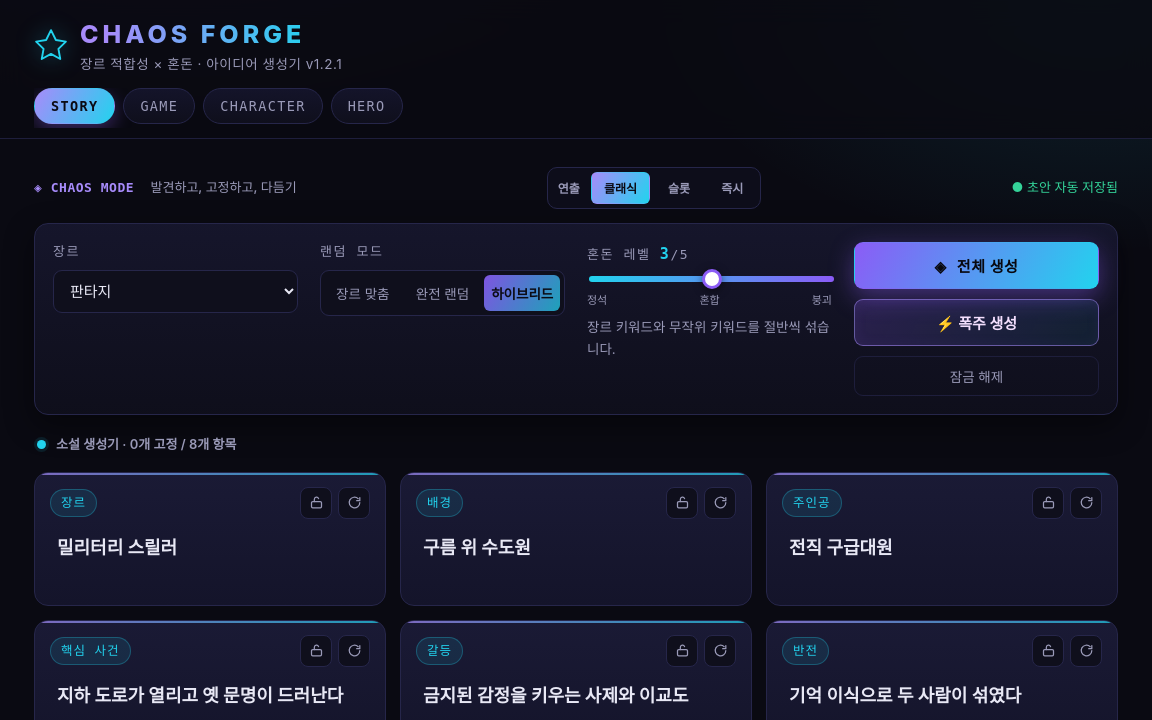
Test: CHAOS FORGE UI › 랜덤 모드에 따라 혼돈 컨트롤이 활성/비활성된다
Step 1. Click the radio button labelled "장르 맞춤" → (363,293), box [325,275,401,311]
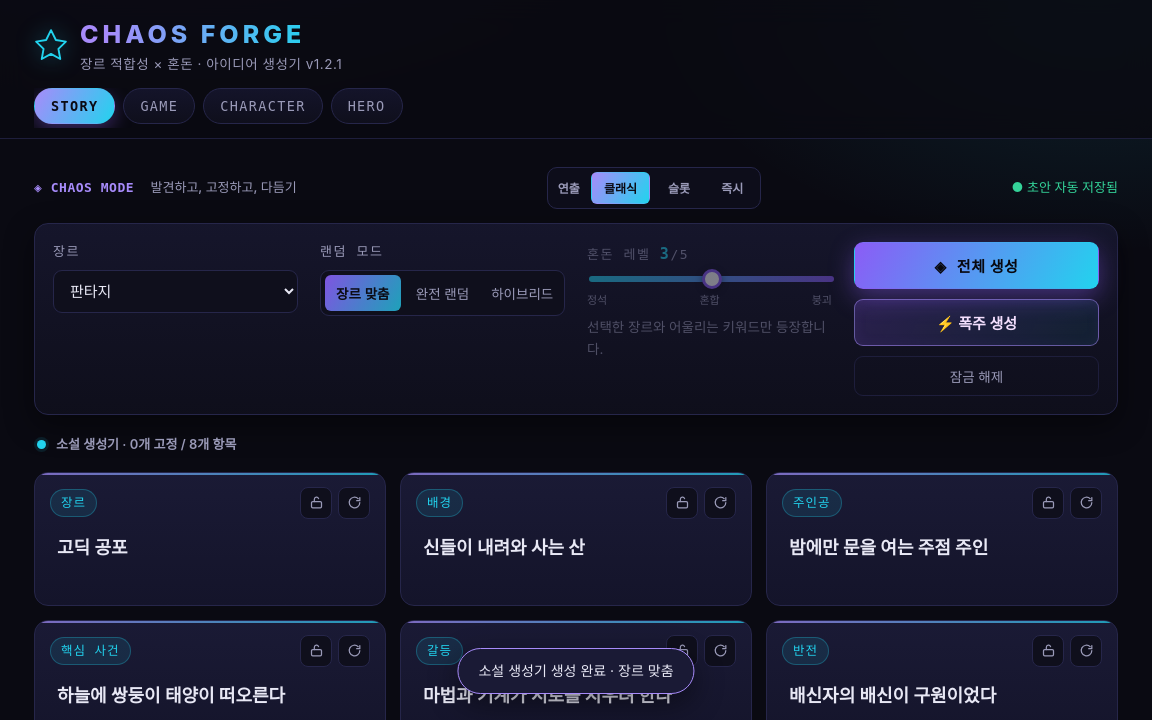
Now the slider with id "chaosRange" is disabled, box [589,276,834,282]
Step 2. Click the radio button labelled "하이브리드" → (522,293), box [484,275,560,311]
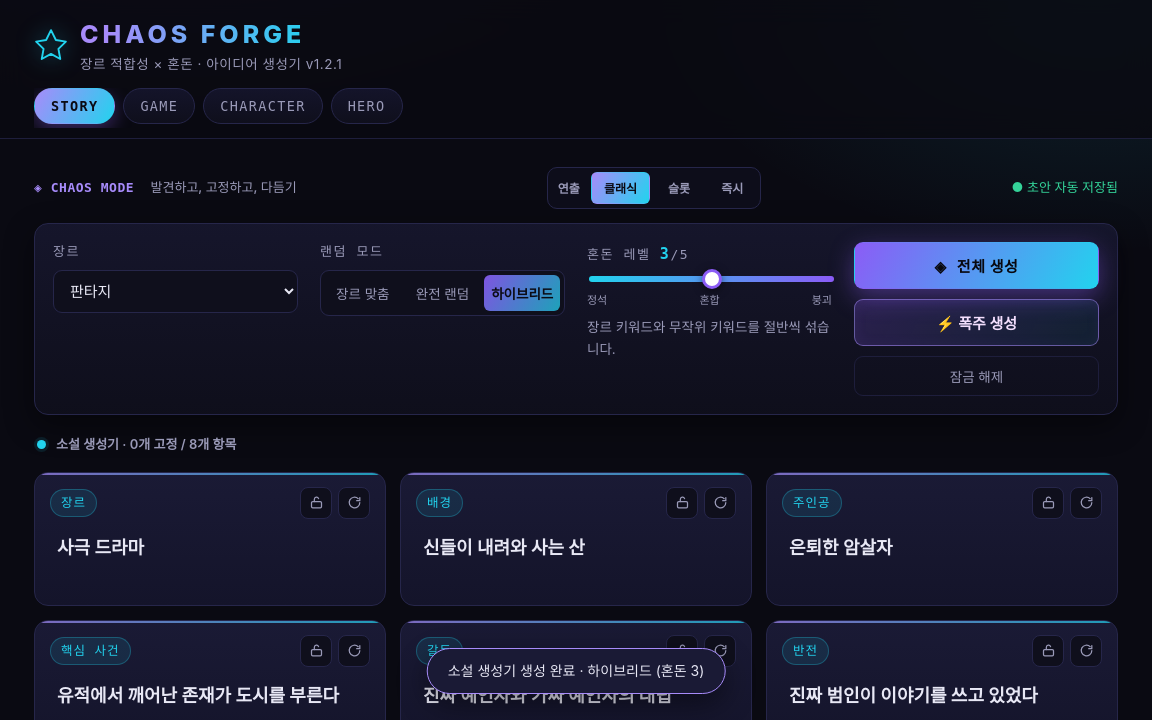
Now the slider with id "chaosRange" is enabled
Step 3. Set the slider with id "chaosRange" to "5" → (826,279), box [589,276,834,282]
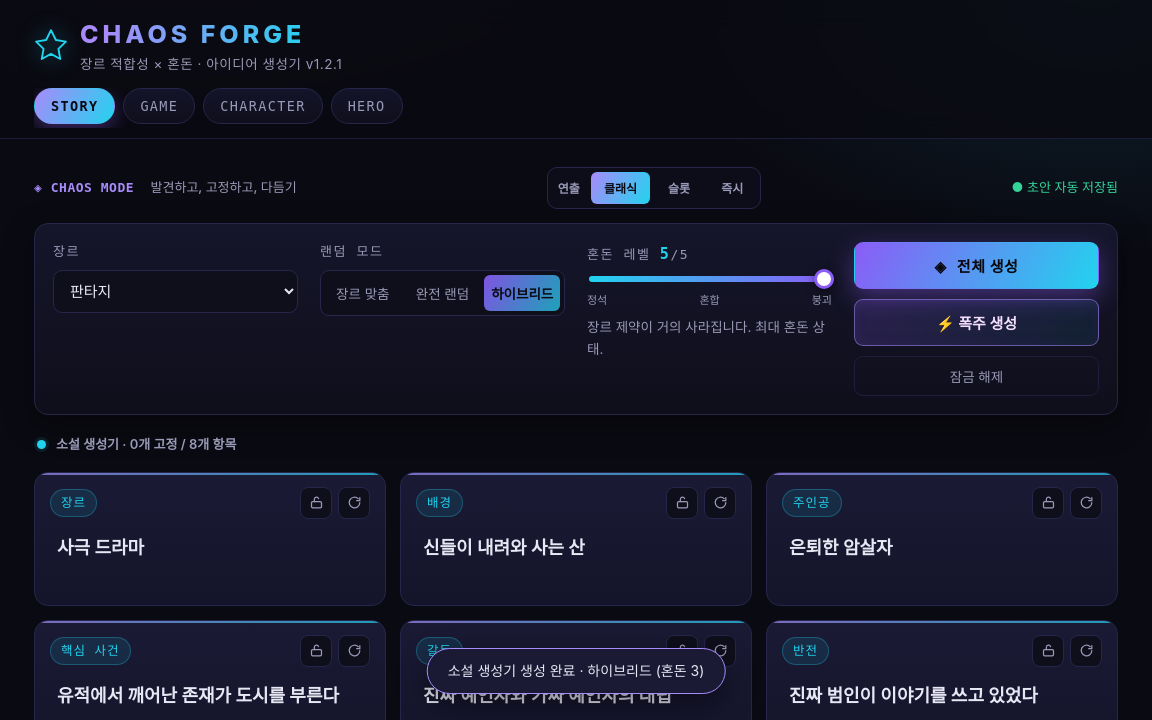
Now the text with id "chaosValue" reads "5", box [660,245,670,263]
